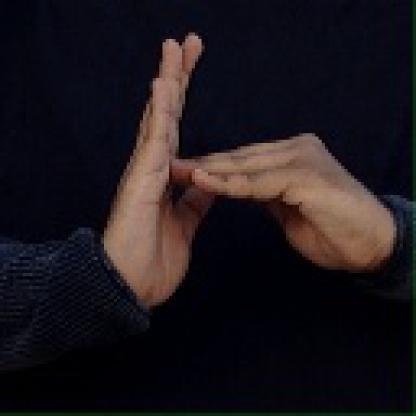Z: (95, 26, 351, 302)
